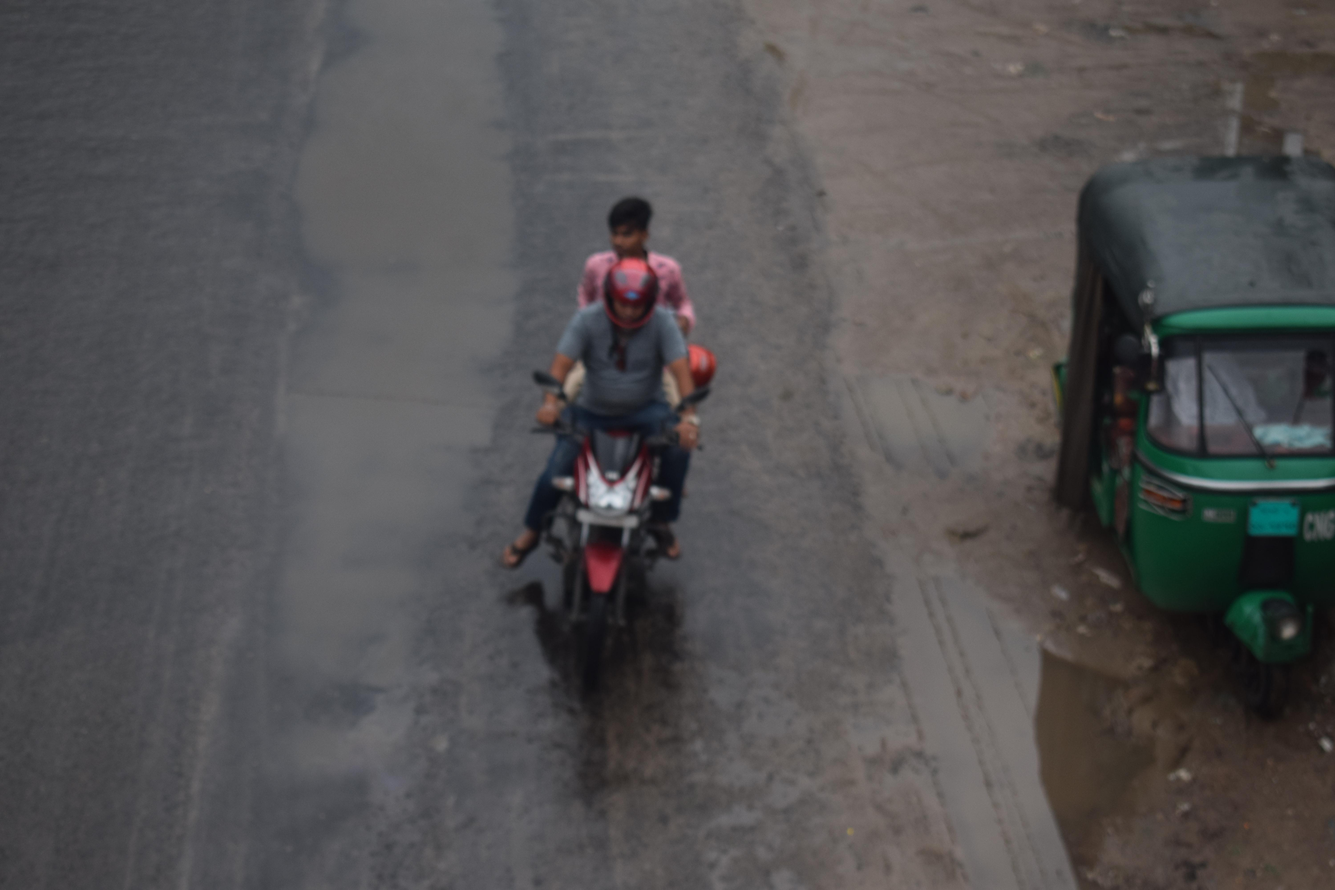Bike: (444, 154, 795, 711)
